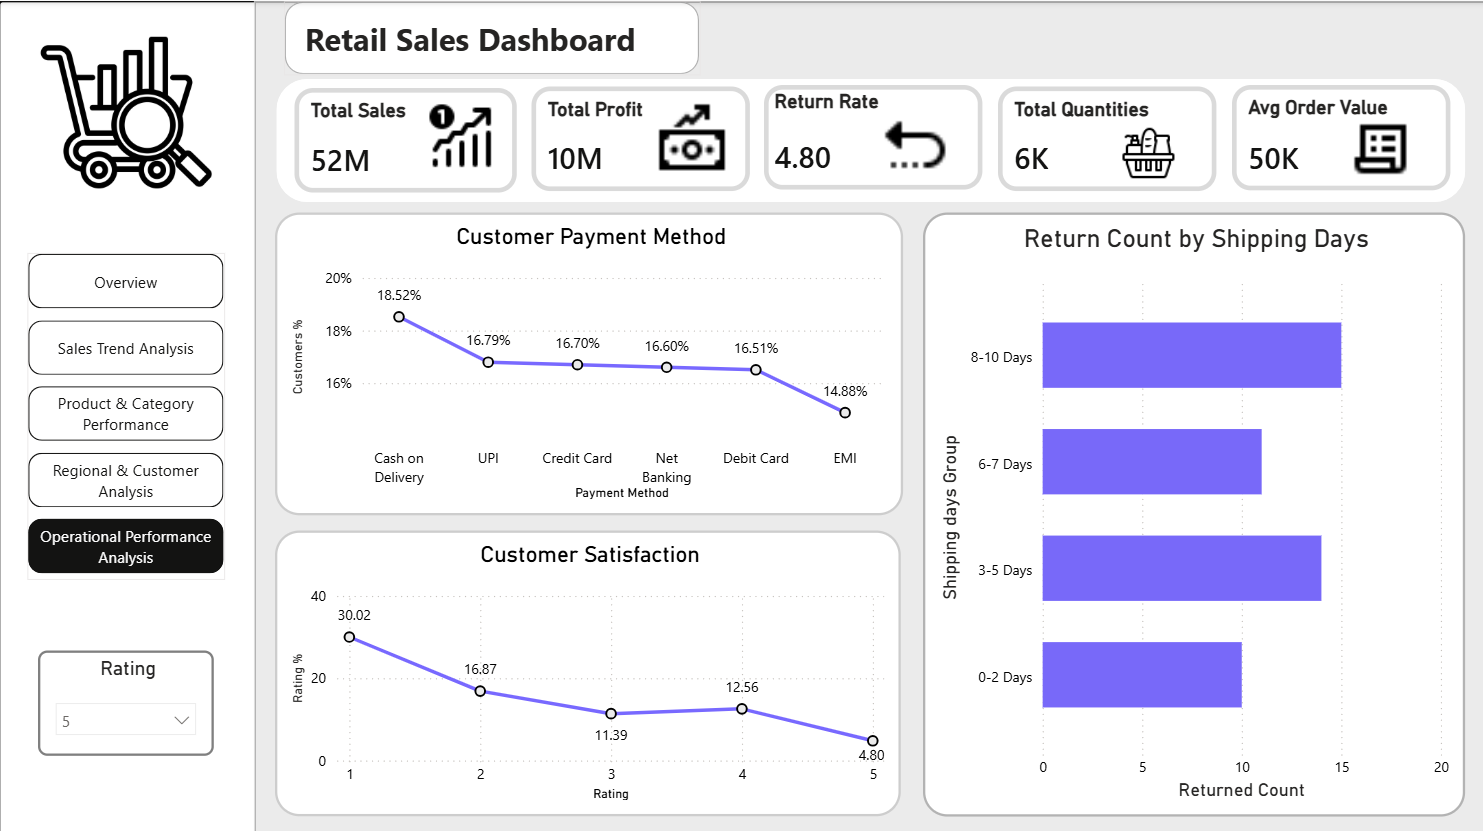

Layout of this report page (visuals, bound fields, positions):
{"tool":"powerbi","page":{"name":"Operational Performance Analysis","canvas":[1280,720],"ordinal":4},"visuals":[{"type":"shape","box":[219.2,0,1061.4,720],"z":0},{"type":"shape","box":[245.7,0,358.6,64.3],"z":2000},{"type":"textbox","box":[258.6,8.6,328.6,45.7],"z":3000},{"type":"shape","box":[239.1,66.6,1023.2,105.9],"z":4000},{"type":"cardVisual","title":"Total Quantities","fields":{"Data":["retail_Sales_data_clean.total_quantity"]},"box":[860.1,74.2,188,90],"z":5000},{"type":"cardVisual","title":"Total Sales","fields":{"Data":["retail_Sales_data_clean.total_sales"]},"box":[255,74.3,191,90],"z":6000},{"type":"cardVisual","title":"Total Profit","fields":{"Data":["retail_Sales_data_clean.total_profit"]},"box":[458,73,188,90],"z":7000},{"type":"cardVisual","title":"Return Rate","fields":{"Data":["retail_Sales_data_clean.return_rate"]},"box":[659,72.7,188,90],"z":8000},{"type":"cardVisual","title":"Avg Order Value","fields":{"Data":["retail_Sales_data_clean.avg_order_value"]},"box":[1061.5,72.7,188,90.9],"z":9000},{"type":"image","box":[363.4,83.3,72.7,69.7],"z":10000},{"type":"image","box":[555,83.3,83,69.7],"z":11000},{"type":"image","box":[754.1,96.9,69.7,56],"z":12000},{"type":"image","box":[947,107.5,86,49],"z":13000},{"type":"image","box":[1155.3,99,69,56],"z":14000},{"type":"lineChart","title":"Customer Payment Method","fields":{"Category":["retail_Sales_data_clean.payment_method"],"Y":["CountNonNull(retail_Sales_data_clean.payment_method)"]},"box":[238.1,181.4,540.5,260.8],"z":15000},{"type":"lineChart","title":"Customer Satisfaction","fields":{"Category":["retail_Sales_data_clean.customer_satisfaction"],"Y":["retail_Sales_data_clean.return_rate"]},"box":[238.1,455.4,538.6,245.7],"z":17000},{"type":"clusteredBarChart","title":"Return Count by Shipping Days","fields":{"Category":["retail_Sales_data_clean.Shipping Bin"],"Y":["CountNonNull(retail_Sales_data_clean.return_status)"]},"box":[795.6,181.4,466.8,519.7],"z":18000},{"type":"slicer","title":"Rating","fields":{"Values":["retail_Sales_data_clean.customer_satisfaction"]},"box":[34,559.4,151.2,90.7],"z":19000},{"type":"pageNavigator","box":[24.6,217.3,170.1,281.6],"z":19001},{"type":"image","box":[24.6,18.9,170.1,153.1],"z":19002}]}

Visuals, with their boxes in screenshot pixels (x1, y1, x2, y2), scaled from the page's 1280x720 canvas onto the 1483x831 screenshot:
shape: crop(254, 0, 1482, 830)
shape: crop(285, 0, 700, 74)
textbox: crop(300, 10, 680, 63)
shape: crop(277, 77, 1462, 199)
"Total Quantities" cardVisual: crop(997, 86, 1214, 190)
"Total Sales" cardVisual: crop(295, 86, 517, 190)
"Total Profit" cardVisual: crop(531, 84, 748, 188)
"Return Rate" cardVisual: crop(764, 84, 981, 188)
"Avg Order Value" cardVisual: crop(1230, 84, 1448, 189)
image: crop(421, 96, 505, 177)
image: crop(643, 96, 739, 177)
image: crop(874, 112, 954, 176)
image: crop(1097, 124, 1197, 181)
image: crop(1339, 114, 1418, 179)
"Customer Payment Method" lineChart: crop(276, 209, 902, 510)
"Customer Satisfaction" lineChart: crop(276, 526, 900, 809)
"Return Count by Shipping Days" clusteredBarChart: crop(922, 209, 1463, 809)
"Rating" slicer: crop(39, 646, 215, 750)
pageNavigator: crop(29, 251, 226, 576)
image: crop(29, 22, 226, 199)
